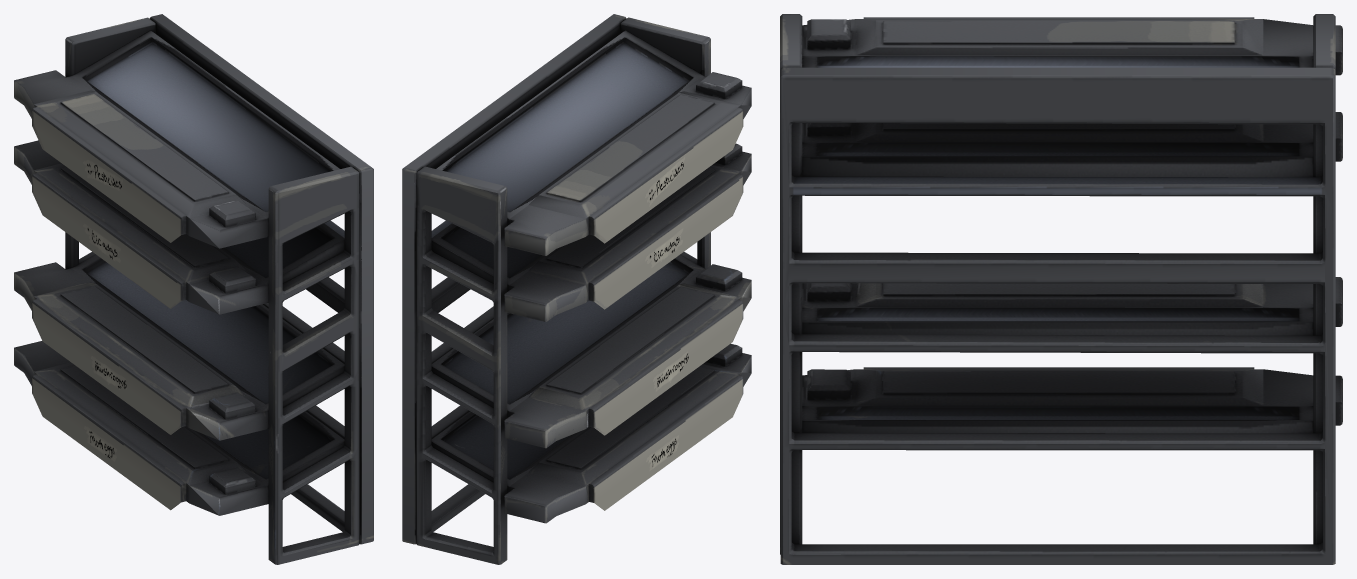
The model's file is shelf.fbx.
3 renders of one model, left to right at view 1: azimuth 30°, elevation 25°; view 2: azimuth 150°, elevation 25°; view 3: azimuth 270°, elevation 25°, orthographic. The views are drawn at different scales.
Visible parts, largest first — view 1: SM_Shelf; view 2: SM_Shelf; view 3: SM_Shelf.
Part boxes in pixels (x1=…): SM_Shelf: x1=14, y1=14, x2=373, y2=564; SM_Shelf: x1=402, y1=14, x2=751, y2=564; SM_Shelf: x1=780, y1=14, x2=1342, y2=564.
Size of the model in its own units: 129 by 283 by 295.
